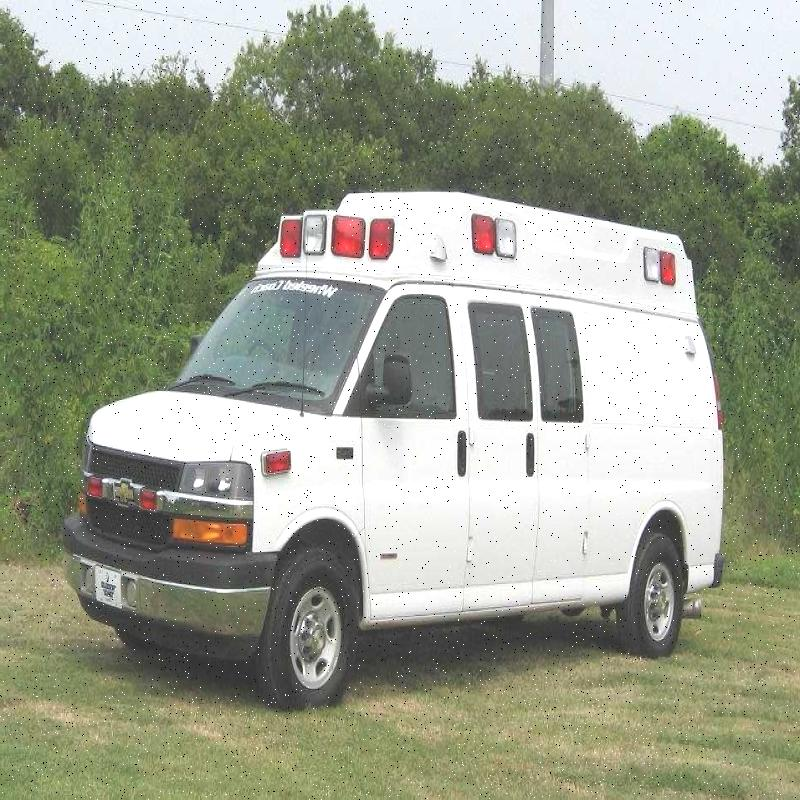AmbulanceSiren: (257, 188, 411, 290)
